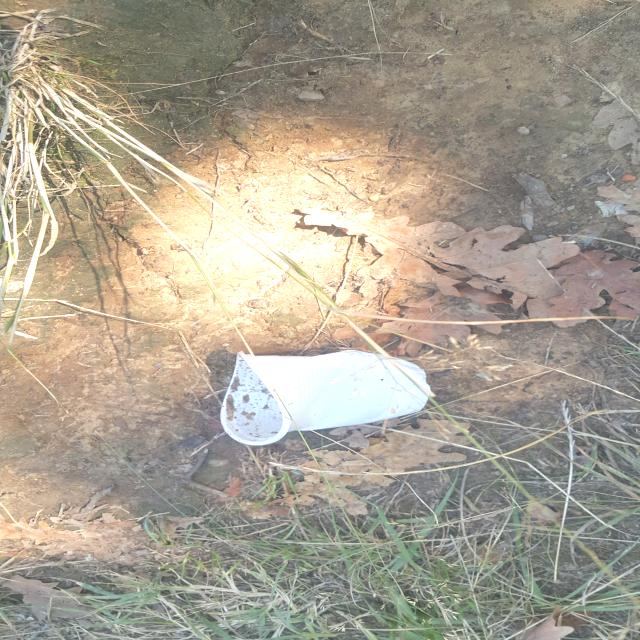Disposable plastic cup: (220, 350, 431, 445)
